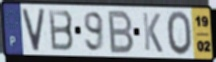9: (83, 10, 106, 52)
B: (107, 9, 136, 55), (47, 8, 76, 52)
K: (141, 11, 164, 55)
O: (166, 9, 194, 57)
V: (20, 8, 47, 53)
